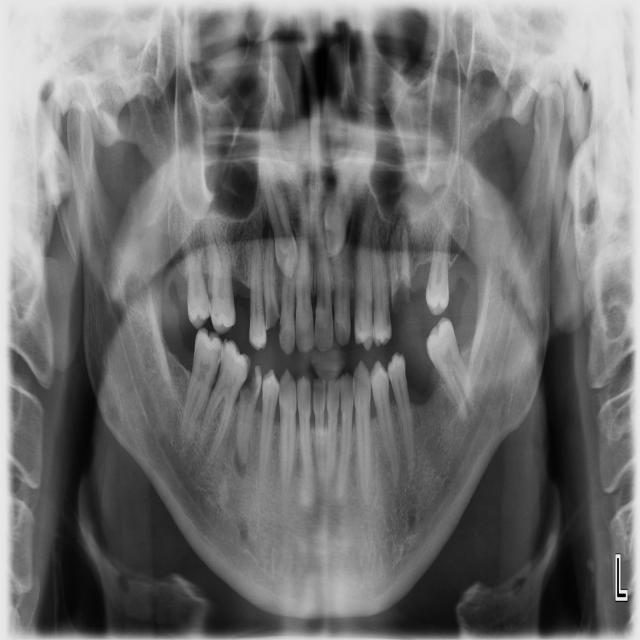mandibula: (68, 86, 564, 620)
